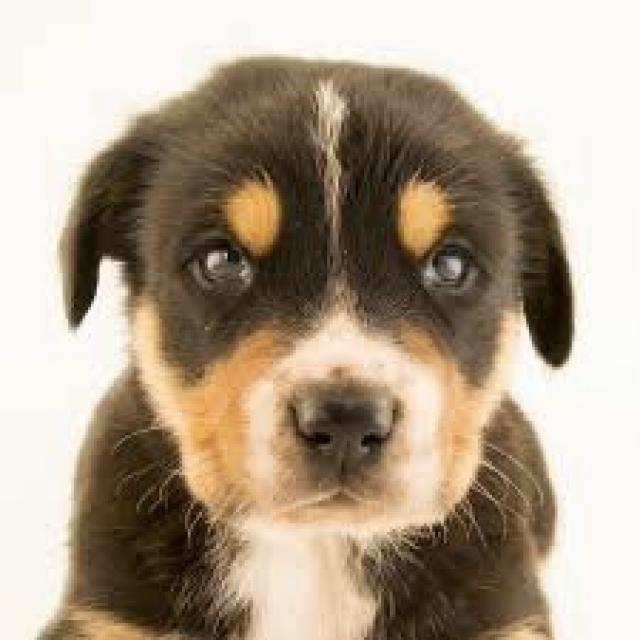dog: (40, 57, 569, 637)
